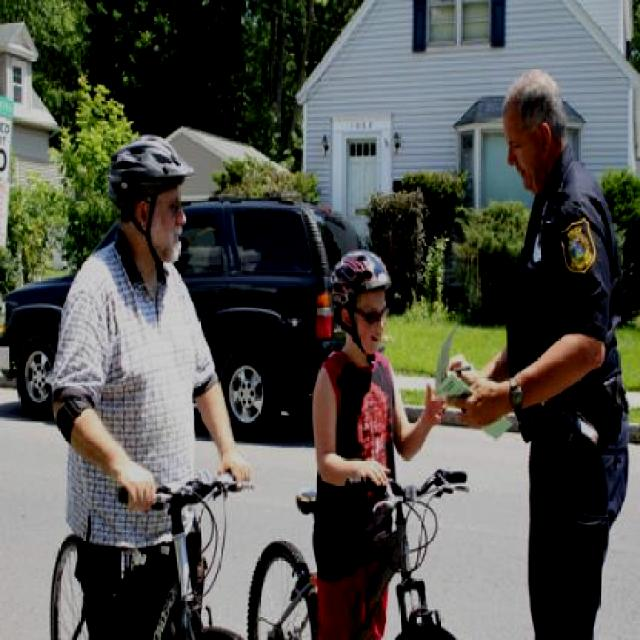With Helmet: (103, 137, 194, 272), (329, 246, 394, 366)
